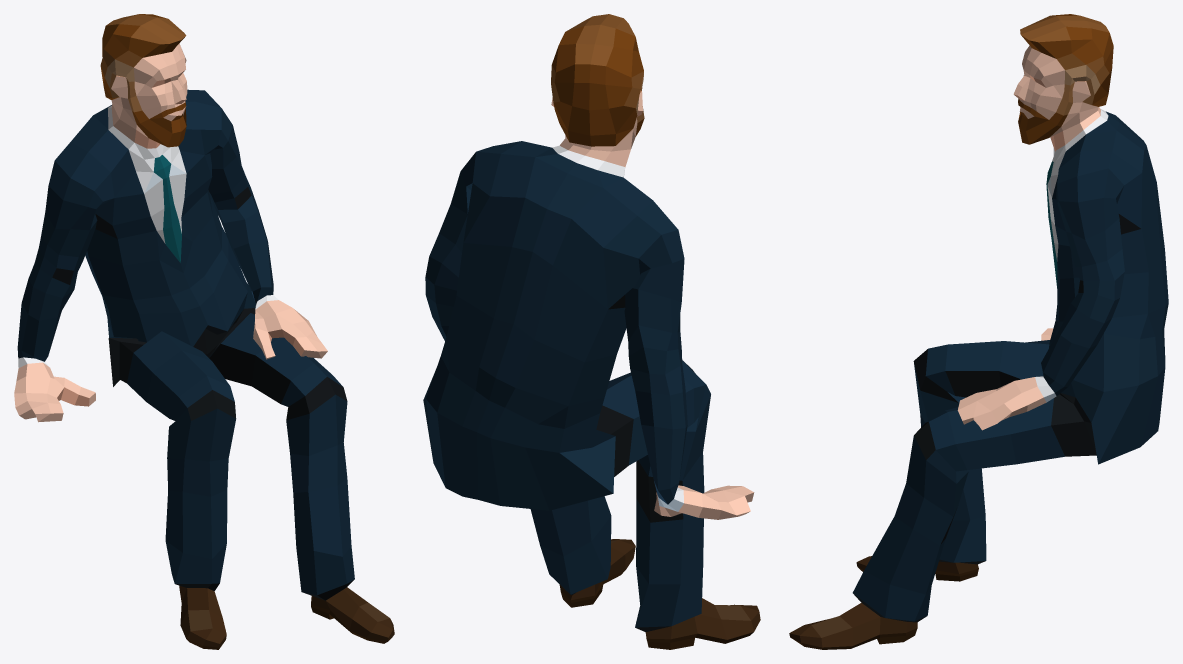
The picture shows the model from 3 angles, left to right: view 1: azimuth 30°, elevation 25°; view 2: azimuth 150°, elevation 25°; view 3: azimuth 270°, elevation 25°; orthographic projection. The views are drawn at different scales.
Parts seen in each view (by area): view 1: lpMale_Business_B_sitting_handside_peopleColors_0; view 2: lpMale_Business_B_sitting_handside_peopleColors_0; view 3: lpMale_Business_B_sitting_handside_peopleColors_0.
Boxes of the visible parts, x1=… form: lpMale_Business_B_sitting_handside_peopleColors_0: x1=14, y1=14, x2=394, y2=649; lpMale_Business_B_sitting_handside_peopleColors_0: x1=423, y1=14, x2=760, y2=649; lpMale_Business_B_sitting_handside_peopleColors_0: x1=789, y1=14, x2=1168, y2=649.
Size of the model in its own units: 69.34 by 139 by 84.24.
